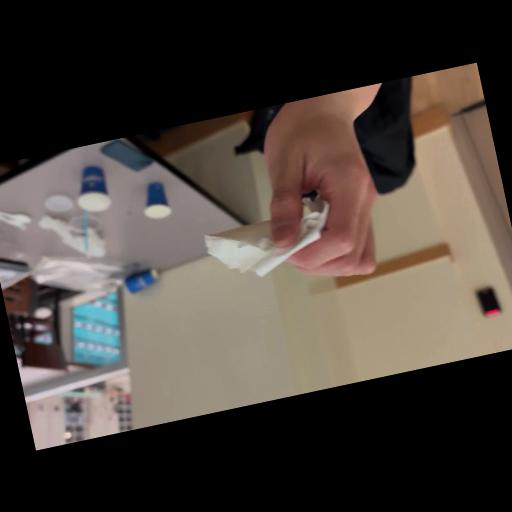napkin: (198, 186, 342, 290)
